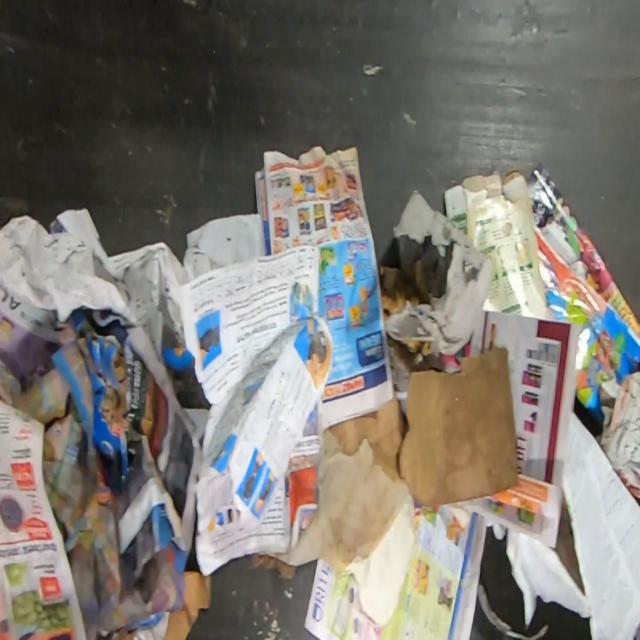cardboard: (398, 346, 519, 506), (444, 169, 552, 321), (328, 396, 404, 481), (163, 569, 212, 640), (380, 259, 429, 317), (400, 339, 433, 355)
